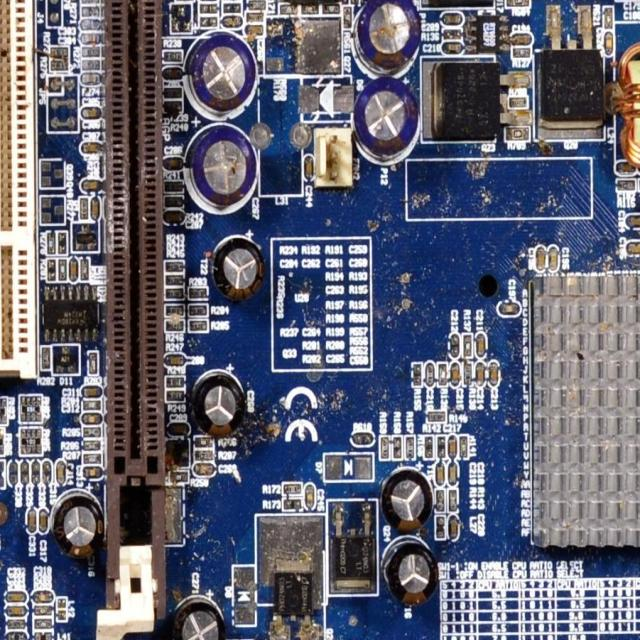IC: (278, 574, 313, 618), (270, 0, 348, 15), (52, 303, 91, 329), (481, 18, 496, 47)
capacitor: (190, 35, 251, 118), (209, 237, 273, 308), (200, 129, 261, 203), (49, 492, 109, 562), (358, 0, 414, 72), (380, 542, 440, 606), (382, 467, 434, 536), (176, 604, 223, 640), (191, 461, 216, 478), (473, 360, 486, 390), (81, 70, 103, 87), (304, 481, 316, 511), (41, 459, 53, 488), (447, 461, 459, 490), (447, 515, 460, 540), (7, 459, 19, 486), (26, 508, 38, 535), (80, 18, 103, 32), (80, 30, 103, 44), (448, 362, 460, 388), (81, 104, 100, 120), (488, 363, 501, 386), (475, 332, 486, 358), (447, 433, 458, 459), (6, 602, 28, 615), (31, 457, 40, 488), (20, 459, 30, 486), (81, 412, 103, 424), (435, 461, 445, 487), (69, 258, 80, 281), (83, 466, 102, 479), (90, 198, 101, 220), (82, 179, 100, 192), (172, 424, 191, 436), (82, 142, 101, 154), (38, 509, 48, 531), (3, 592, 25, 602), (516, 31, 531, 45), (35, 603, 51, 615), (166, 69, 179, 81), (164, 156, 178, 167), (626, 212, 640, 223), (35, 592, 53, 600), (627, 241, 640, 251), (548, 250, 556, 266), (86, 388, 102, 396), (538, 250, 544, 270), (425, 367, 431, 382), (225, 16, 239, 22), (505, 304, 515, 312), (450, 338, 455, 354), (170, 211, 180, 219), (606, 35, 610, 53), (251, 25, 260, 32), (12, 634, 24, 639)
connector: (0, 0, 38, 386)
resistor: (460, 330, 474, 357), (162, 47, 182, 64), (411, 362, 424, 388), (81, 5, 105, 19), (165, 319, 187, 334), (378, 436, 391, 461), (166, 374, 186, 390), (86, 349, 98, 375), (192, 436, 216, 449), (392, 435, 404, 461), (164, 304, 186, 318), (40, 345, 51, 373), (404, 436, 417, 459), (192, 448, 215, 461), (164, 286, 185, 299), (189, 318, 210, 331), (81, 399, 102, 412), (57, 257, 68, 281), (438, 363, 449, 387), (189, 286, 210, 298), (166, 260, 185, 273), (81, 59, 103, 70), (81, 425, 101, 437), (46, 233, 56, 256), (165, 274, 184, 286), (166, 390, 184, 402), (82, 440, 101, 451), (84, 453, 103, 464), (188, 304, 208, 314), (82, 47, 100, 58), (166, 354, 183, 364), (507, 131, 525, 139), (436, 491, 444, 507), (514, 51, 530, 58), (166, 89, 178, 98), (49, 262, 55, 279), (429, 412, 443, 419), (202, 6, 214, 14), (425, 437, 430, 456), (203, 18, 216, 25), (168, 197, 181, 204), (282, 487, 300, 492), (283, 500, 294, 508), (438, 437, 443, 454), (81, 200, 86, 217), (461, 438, 467, 452), (80, 0, 101, 4), (450, 490, 455, 505), (506, 0, 524, 4), (166, 103, 178, 109), (164, 183, 178, 188), (60, 235, 64, 252), (12, 621, 25, 626), (226, 4, 238, 9), (251, 1, 259, 7), (248, 16, 260, 18), (36, 623, 45, 625)
transistor: (443, 64, 482, 120), (547, 62, 586, 113), (78, 228, 95, 248)
